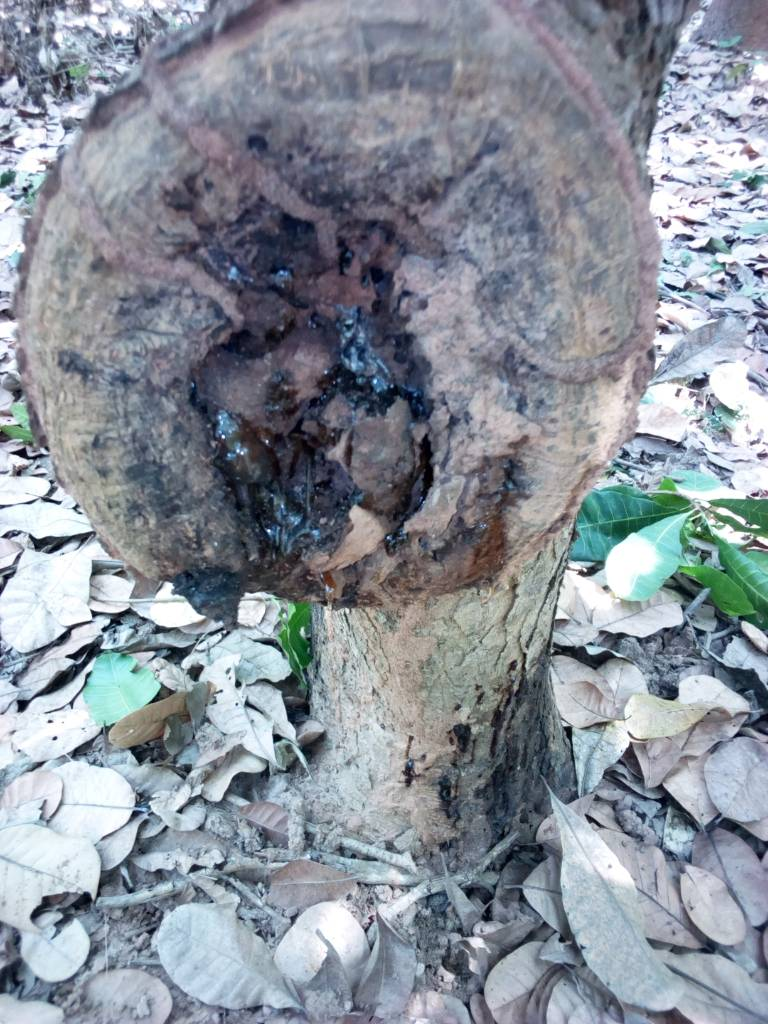Termites: (47, 22, 652, 582), (366, 636, 472, 850)
